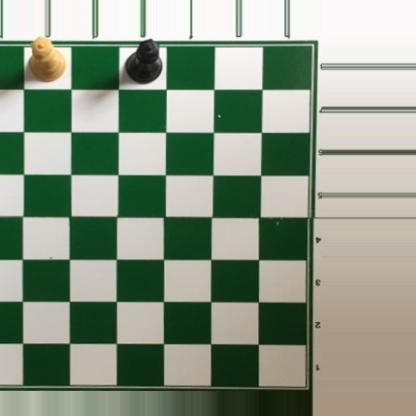black-queen: (124, 39, 165, 84)
white-queen: (28, 35, 69, 83)
